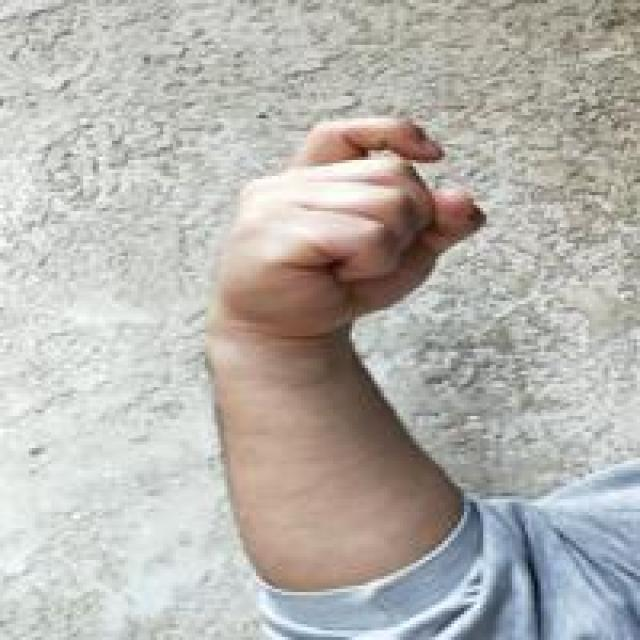X: (205, 112, 490, 346)
